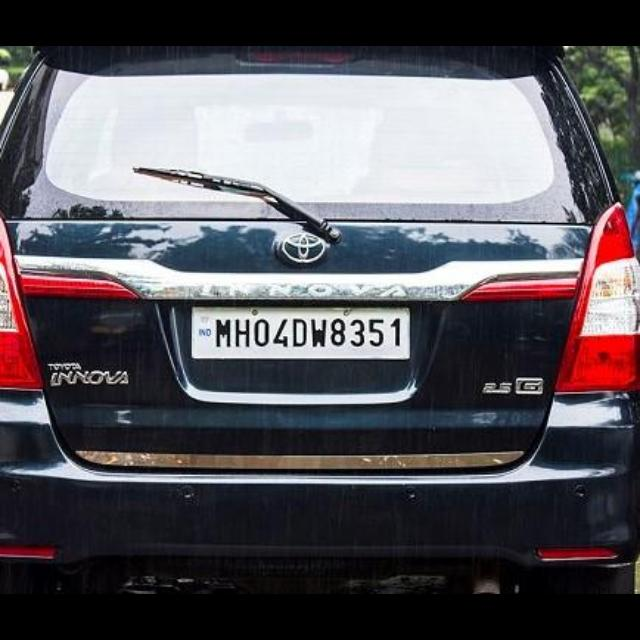number-plate: (187, 304, 408, 356)
vehicles: (0, 47, 632, 560)
